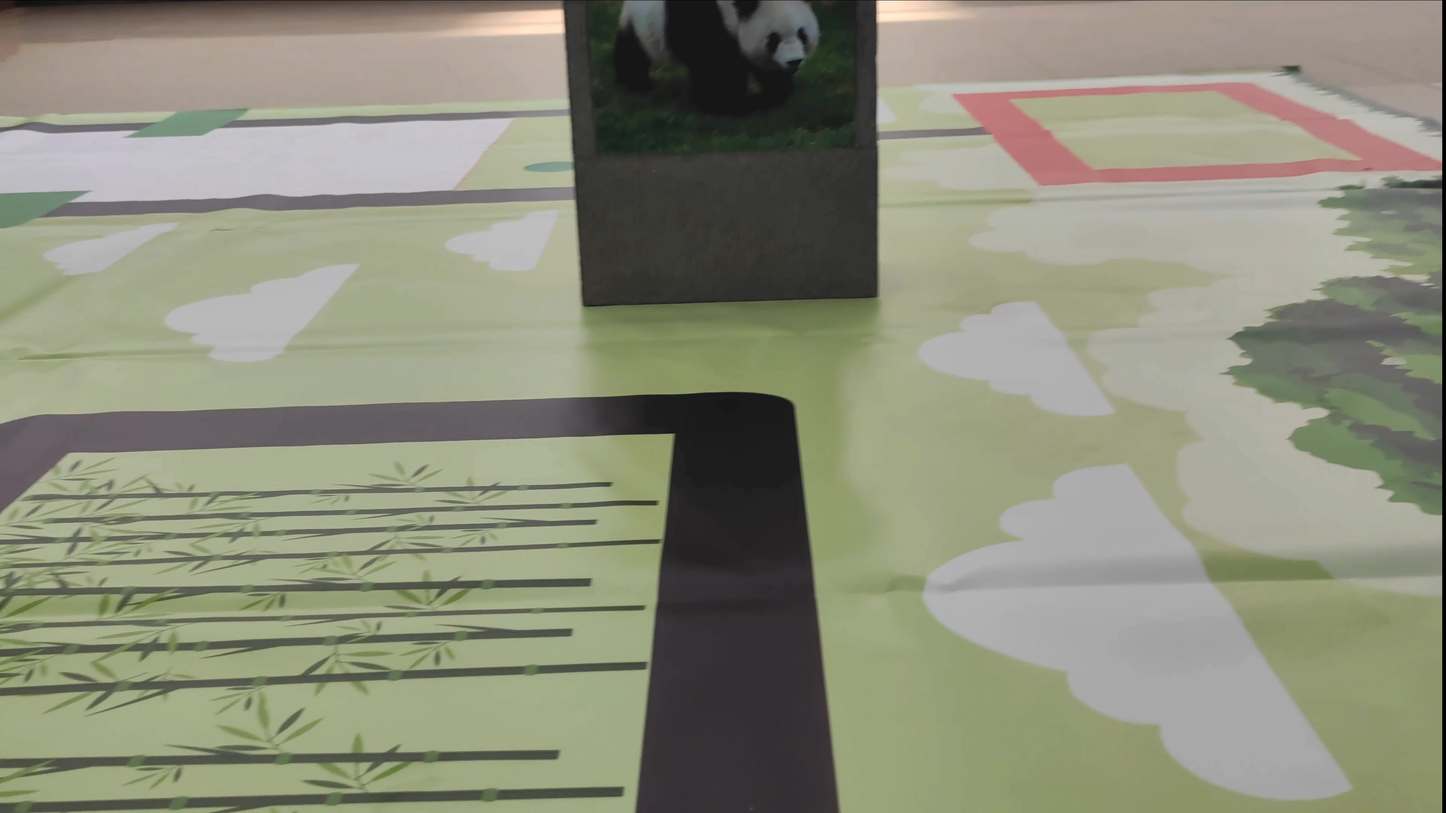panda: (610, 1, 848, 125)
